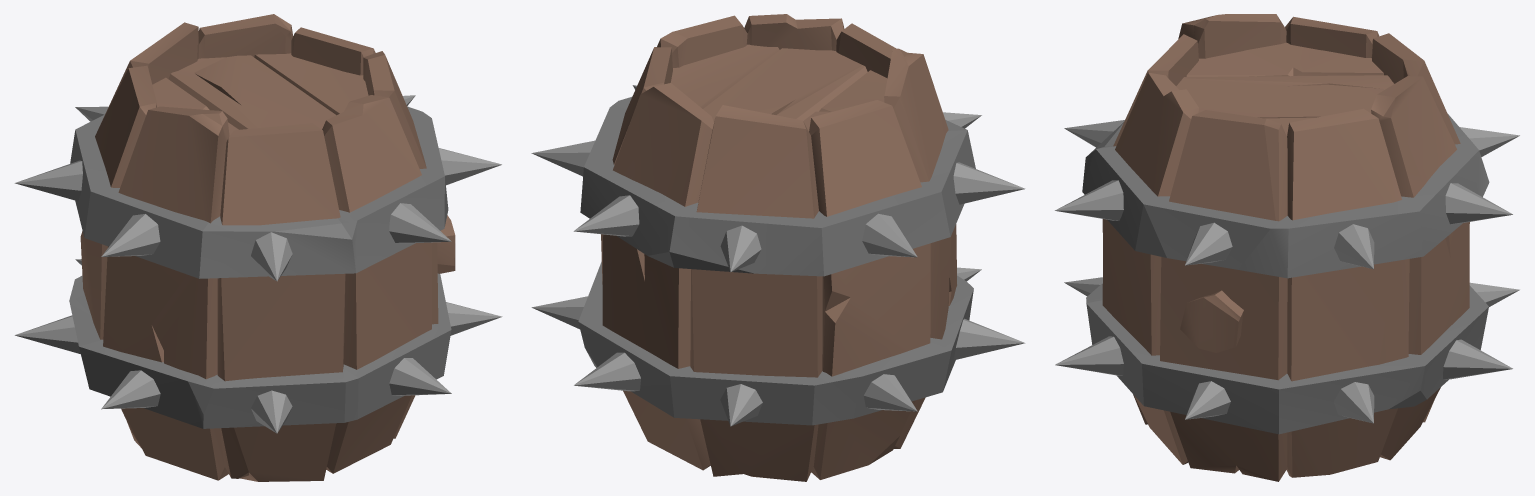
File: explosion_barrel.fbx
3 renders of one model, left to right at view 1: azimuth 30°, elevation 25°; view 2: azimuth 150°, elevation 25°; view 3: azimuth 270°, elevation 25°, orthographic.
Parts seen in each view (by area): view 1: NGF_Barrel_02; view 2: NGF_Barrel_02; view 3: NGF_Barrel_02.
Boxes of the visible parts, bbox=[...] form: NGF_Barrel_02: bbox=[14, 14, 502, 481]; NGF_Barrel_02: bbox=[531, 14, 1025, 481]; NGF_Barrel_02: bbox=[1055, 14, 1519, 481].
Bounding box in the file's own units: 122 × 105 × 121.
